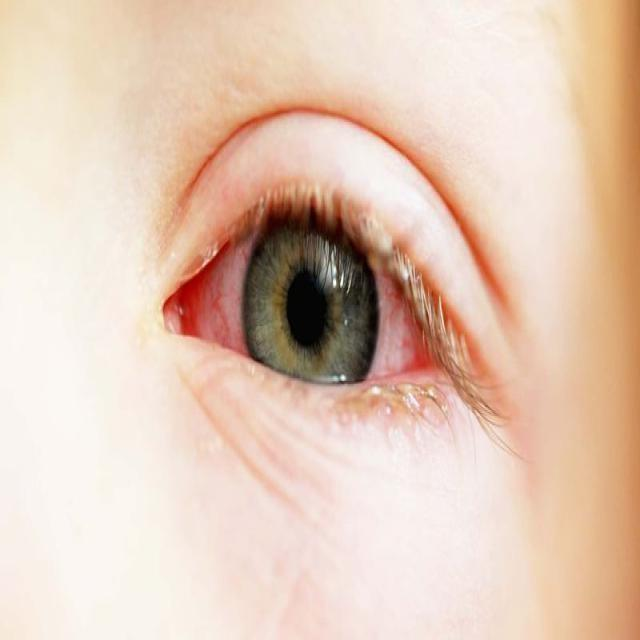Conjunctivitis: (156, 206, 462, 390)
